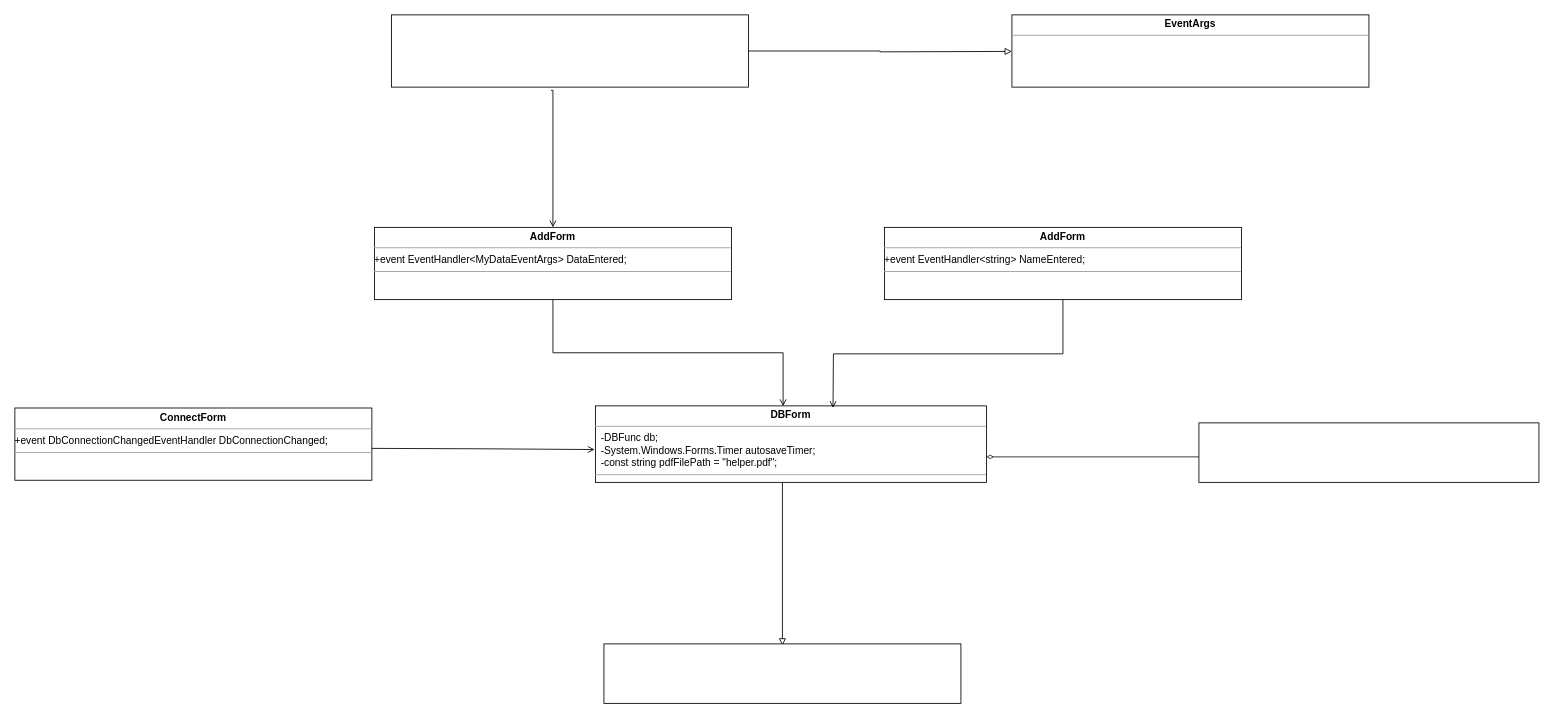
Image size: 1554x718. Some labels were removed from this diagram. The shapes that lost their labels are listed below. From the top down, each one's centre as x and y in pixels, then its label:
At [569,50]: "MyDataEventArgs +MyData Data".
At [1368,452]: "DBFunc".
At [782,673]: "Form".
